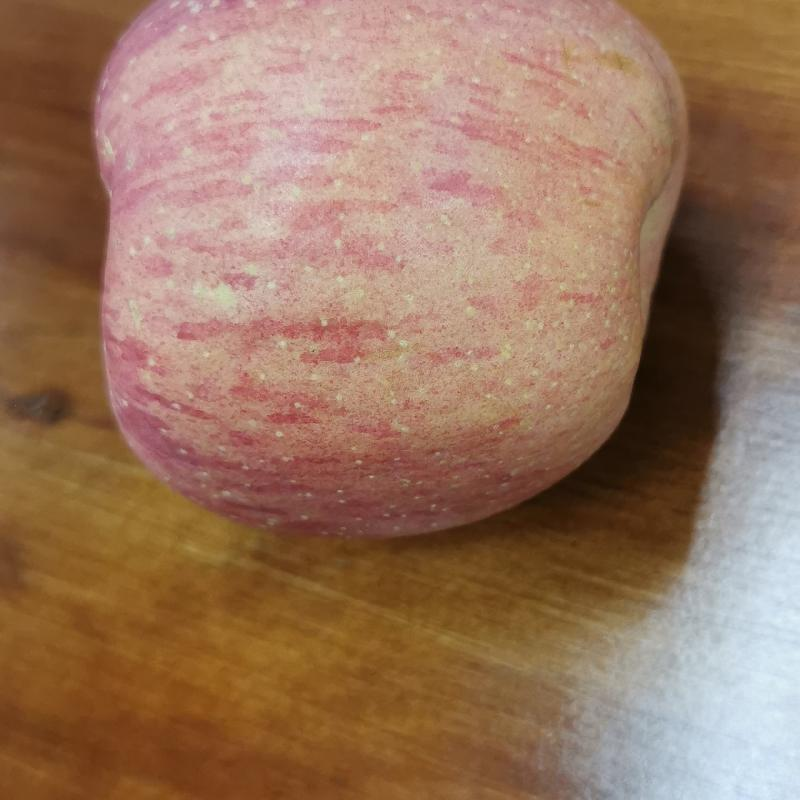apples: (80, 1, 692, 541)
